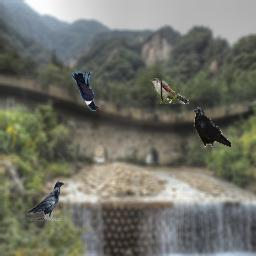Crow: (193, 107, 231, 147), (27, 181, 64, 221), (72, 71, 99, 111)
Cuckoo: (149, 78, 189, 104)
